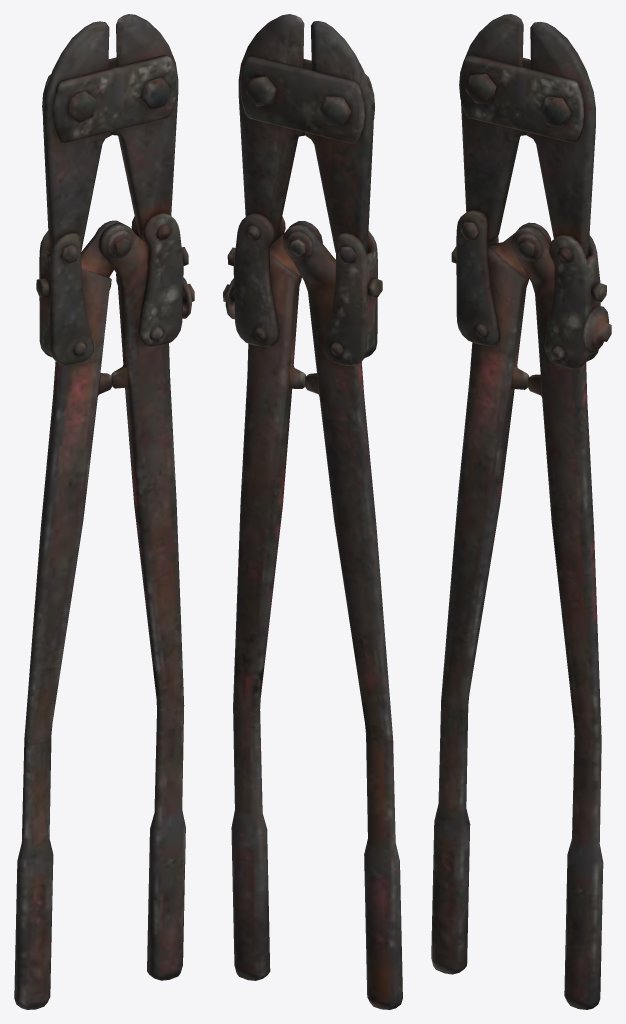
Rendered from bolt_cutters_01.glb.
The picture shows the model from 3 angles, left to right: view 1: azimuth 30°, elevation 25°; view 2: azimuth 150°, elevation 25°; view 3: azimuth 330°, elevation 25°; orthographic projection.
Visible parts, largest first — view 1: bolt_cutters_01; view 2: bolt_cutters_01; view 3: bolt_cutters_01.
Part boxes in pixels (bbox=[...]): bolt_cutters_01: bbox=[14, 14, 194, 1009]; bolt_cutters_01: bbox=[223, 14, 402, 1009]; bolt_cutters_01: bbox=[431, 14, 611, 1009].
Bounding box in the file's own units: 0.1511 × 0.8026 × 0.0361.
1 material, 1 textured.
